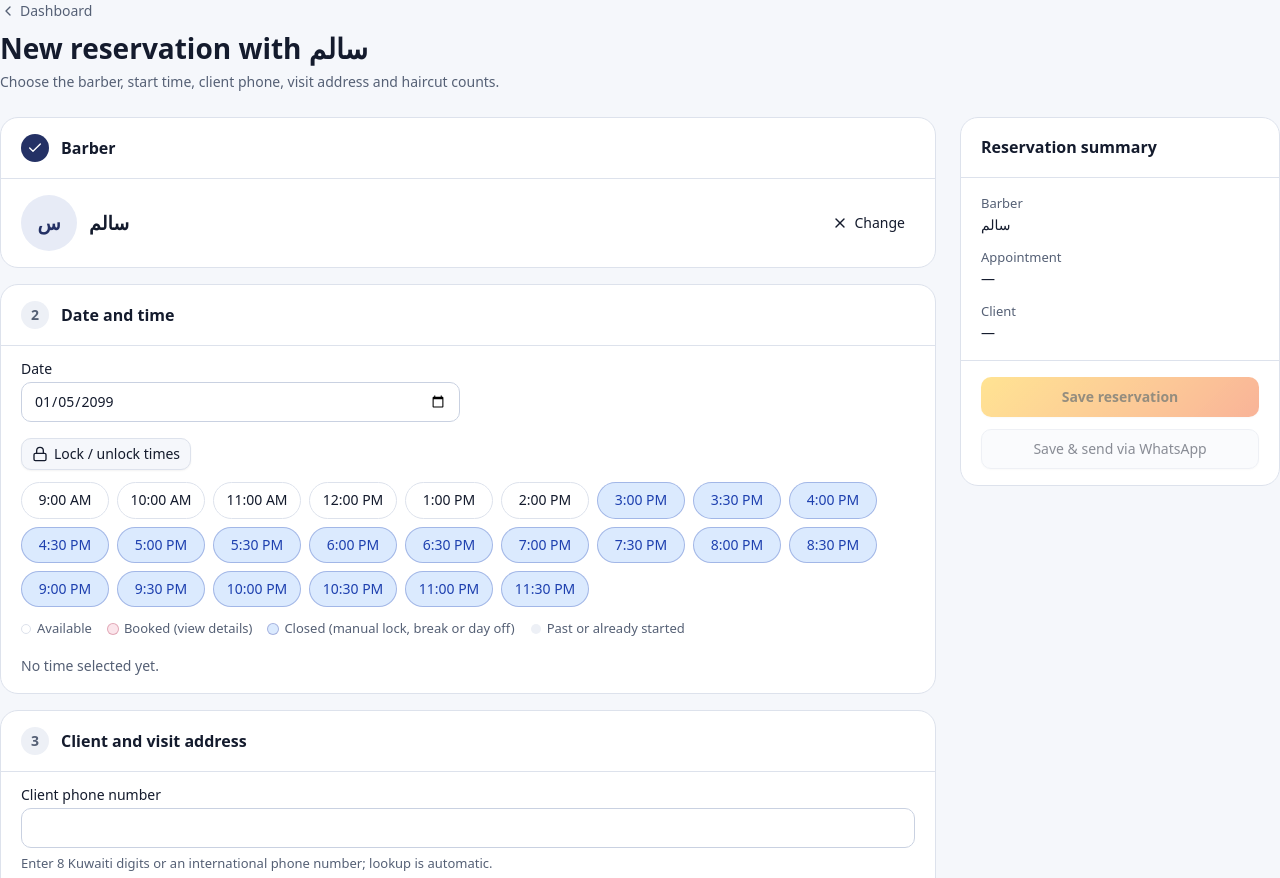
it: shows an error and saves nothing when the WhatsApp popup is blocked
Type "50000001" into the field labelled "Client phone number". click: (468, 828)
box: [21,808,915,848]
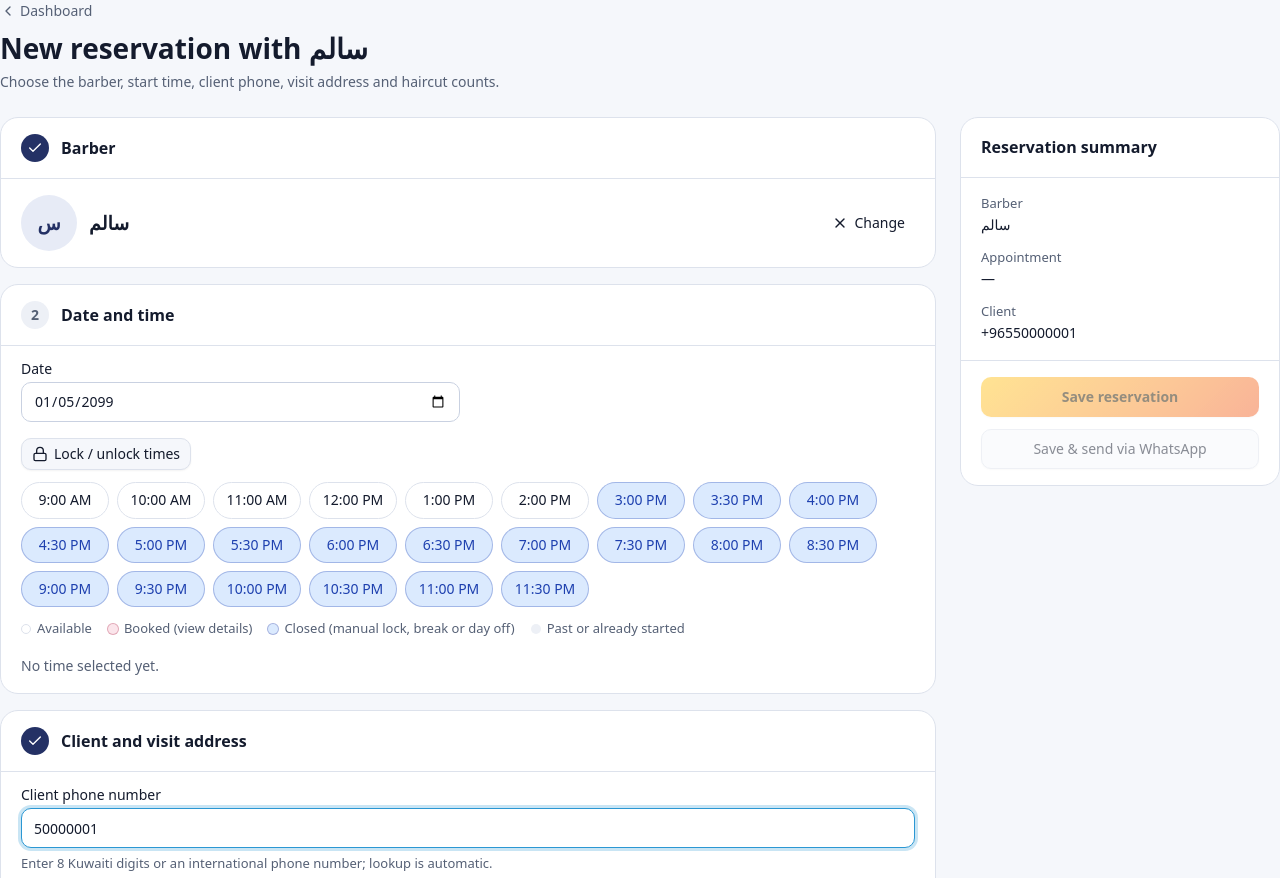
Click the radio button labelled "1:00 PM". click: (449, 500)
box: [405,482,493,519]
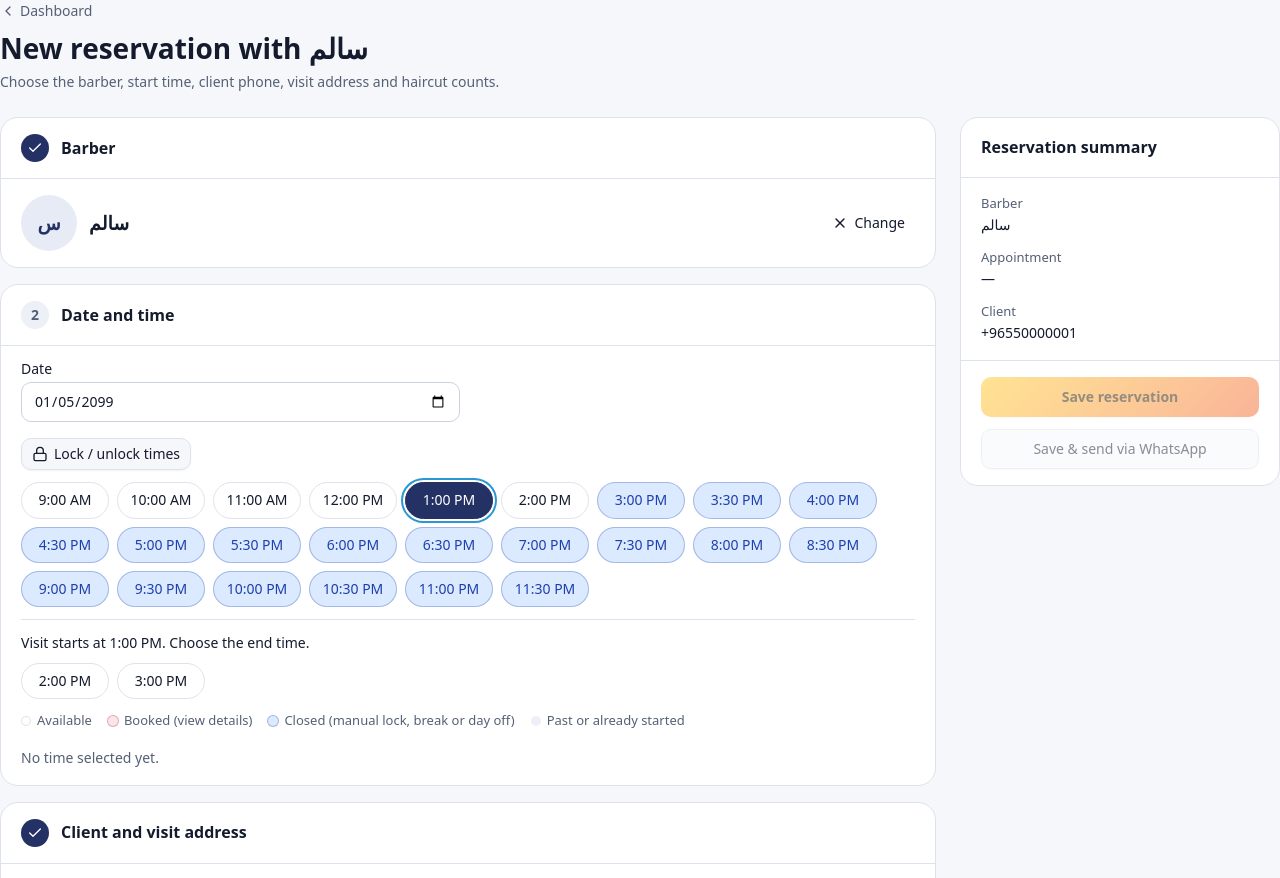
Click the radio button with aria-label "End at 2:00 PM". click: (65, 681)
box: [21,663,109,699]
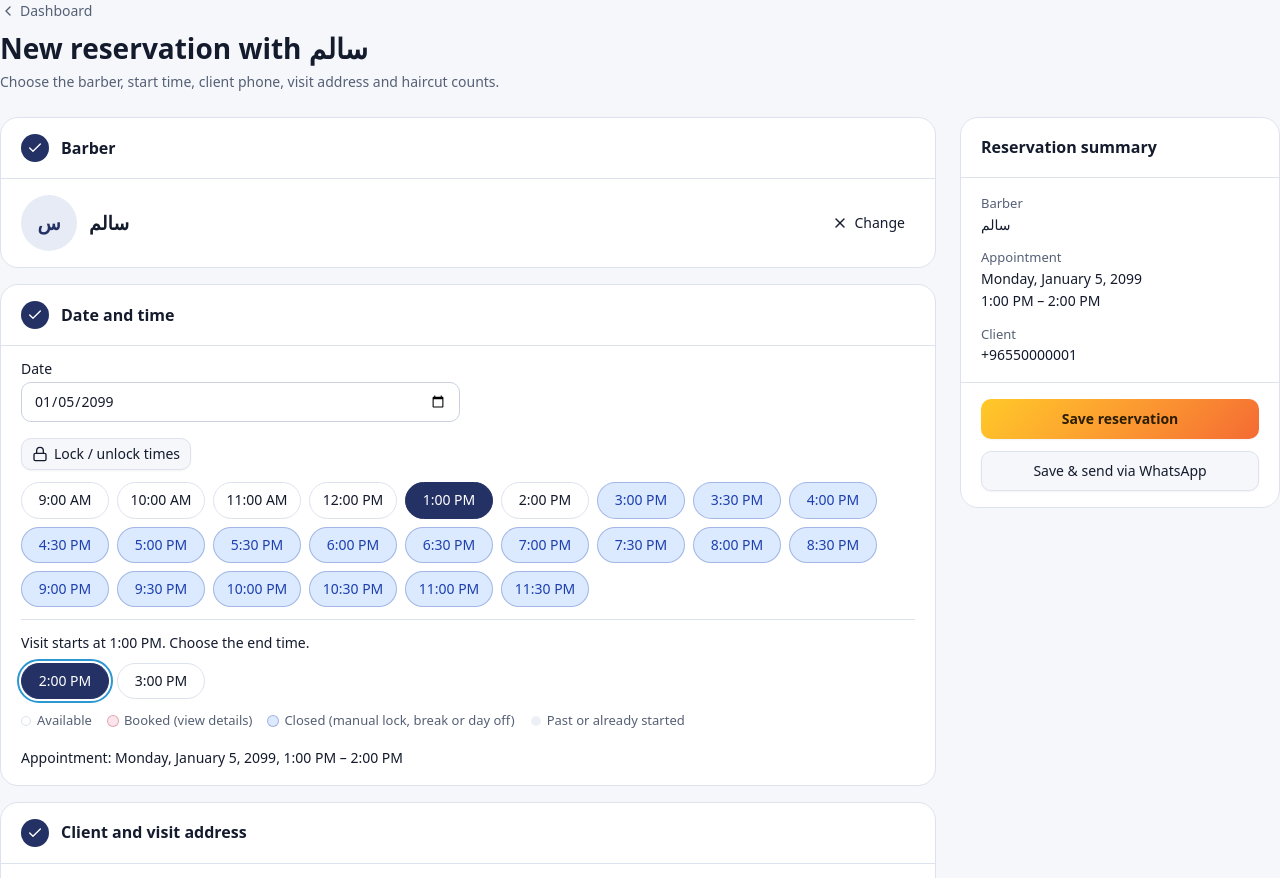
expect the button "Save & send via WhatsApp" is enabled: met
Click the button "Save & send via WhatsApp". click: (1120, 471)
box: [981,451,1259,491]
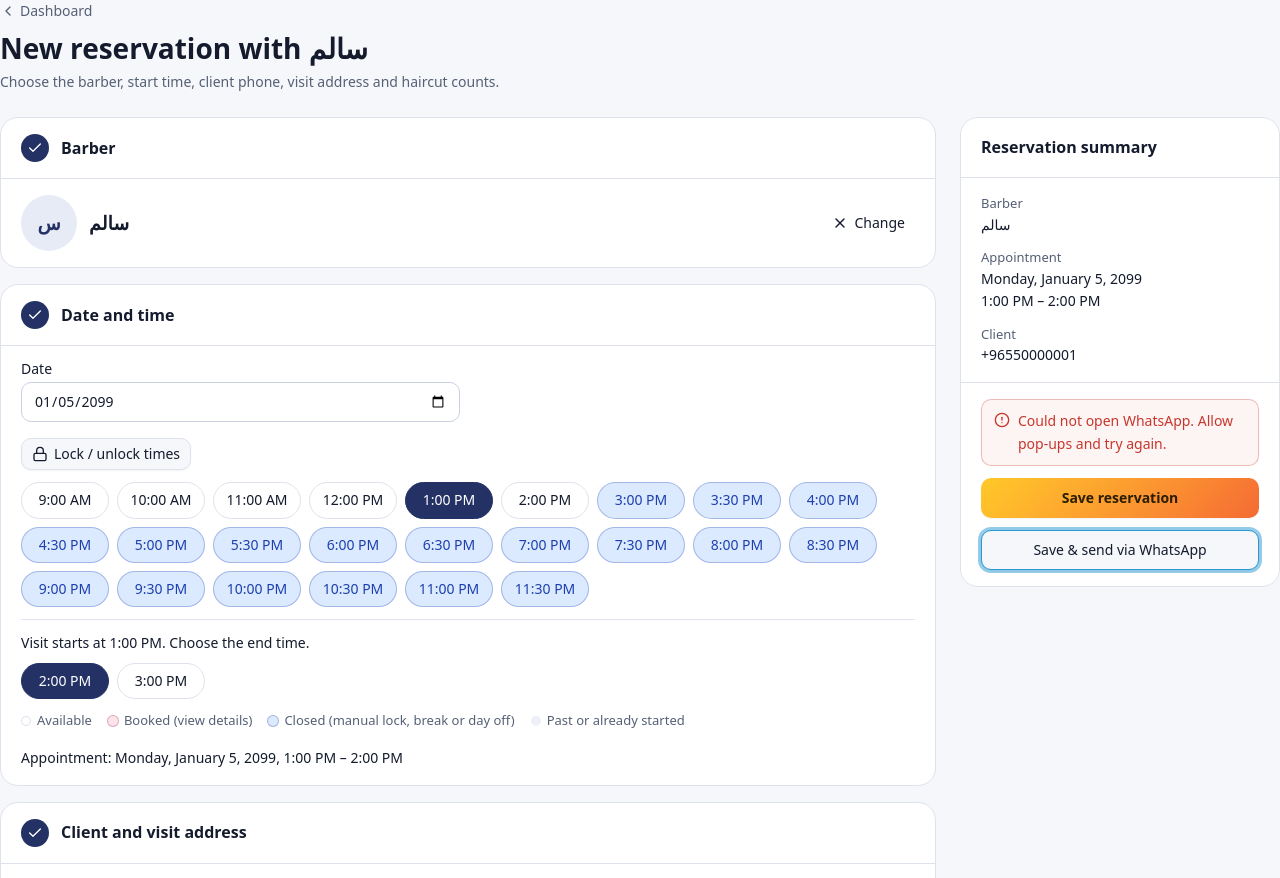
expect the message "Could not open WhatsApp. Allow pop-ups and try again." is shown: met, box [981,399,1259,466]
